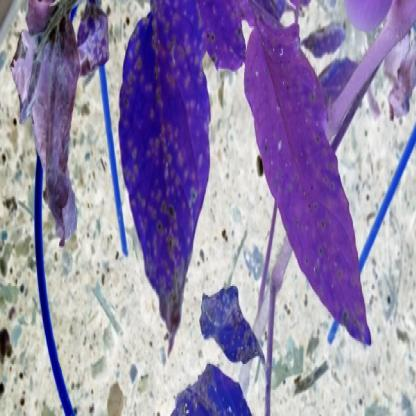tomato septoria leaf spot: (241, 14, 374, 353), (117, 12, 218, 370)
